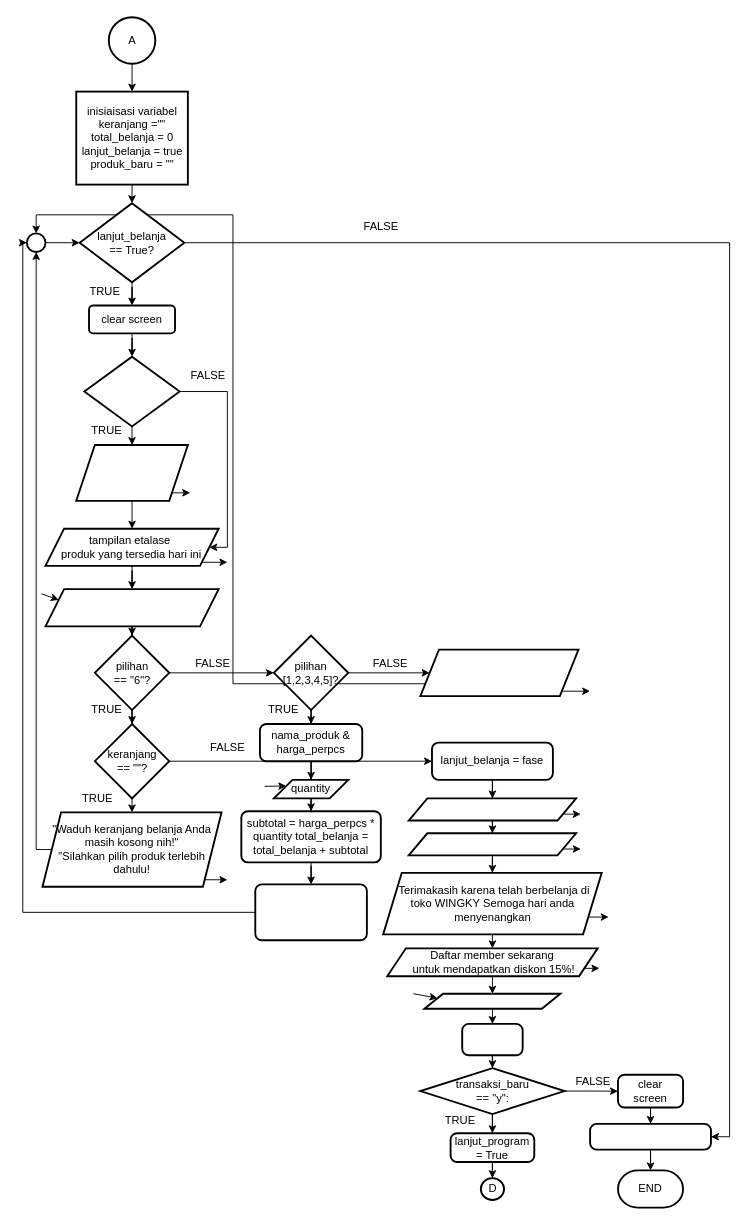
The diagram is 753 pixels wide and 1224 high, and some of its shapes have lost their labels. Each missing label, with the centre of its shape:
if Y = y if N = n: point (492, 1039)
lanjut_program = False: point (650, 1136)
Pilihan anda tidak valid nih! Silahkan pilih menu yang tersedia yaa.: point (499, 672)
produk_baru !=""?: point (131, 391)
Silahkan pilih menu (1/2/3/4/5/6):: point (131, 607)
STRUK, keranjang & produk: point (492, 809)
tambahkan produk ke keranjang set_produk_baru: point (310, 912)
Total bayar (tanpa diskon): point (492, 844)
total belanja sementara Rp (total_belanja:,): point (131, 472)
transaksi_baru (y/n): point (492, 1000)
